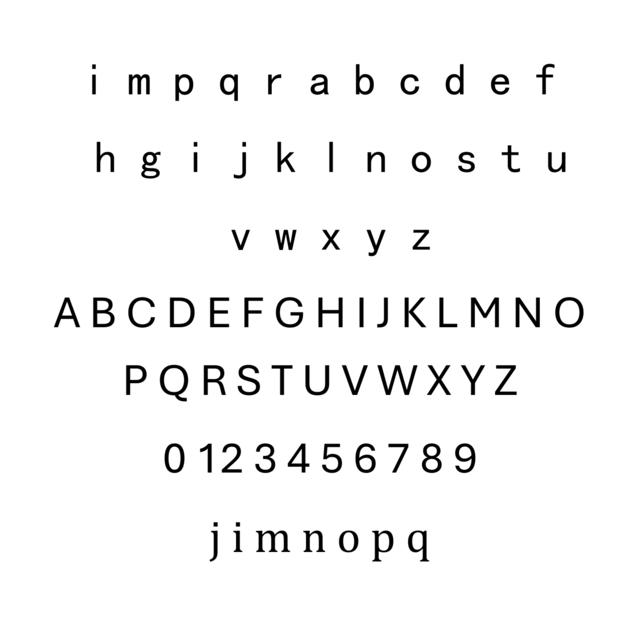alphabet: (376, 364, 416, 398), (160, 364, 190, 405), (470, 297, 501, 331), (554, 296, 584, 331), (340, 364, 370, 398), (274, 296, 303, 330), (128, 296, 156, 331), (168, 297, 195, 330), (514, 296, 540, 330), (304, 365, 331, 397), (54, 297, 80, 330), (236, 364, 261, 398), (459, 365, 485, 397), (372, 528, 395, 563), (92, 297, 116, 330), (318, 297, 342, 330), (258, 528, 291, 552), (426, 364, 450, 397), (124, 365, 148, 397), (404, 297, 427, 330), (271, 363, 294, 395), (386, 443, 409, 475), (164, 442, 186, 475), (420, 442, 442, 475), (204, 365, 226, 397), (454, 442, 476, 474), (354, 442, 376, 474), (320, 442, 342, 474), (242, 297, 264, 329), (494, 363, 516, 395), (220, 443, 242, 475), (209, 297, 230, 330), (254, 442, 275, 475), (354, 62, 374, 96), (408, 528, 428, 562), (439, 297, 460, 329), (140, 152, 163, 181), (446, 63, 465, 96), (277, 140, 296, 173), (536, 62, 554, 96), (286, 443, 307, 472), (96, 140, 115, 172), (218, 72, 238, 102), (174, 72, 193, 102), (302, 529, 325, 552), (275, 229, 297, 252), (339, 528, 360, 552), (128, 73, 150, 95), (231, 229, 252, 252), (490, 74, 510, 98), (310, 74, 330, 98), (401, 73, 421, 96), (456, 150, 476, 173), (548, 150, 567, 174), (376, 298, 390, 330), (412, 150, 432, 172), (320, 229, 340, 251), (209, 522, 219, 564), (366, 150, 384, 173), (200, 444, 213, 474), (268, 73, 283, 95)
